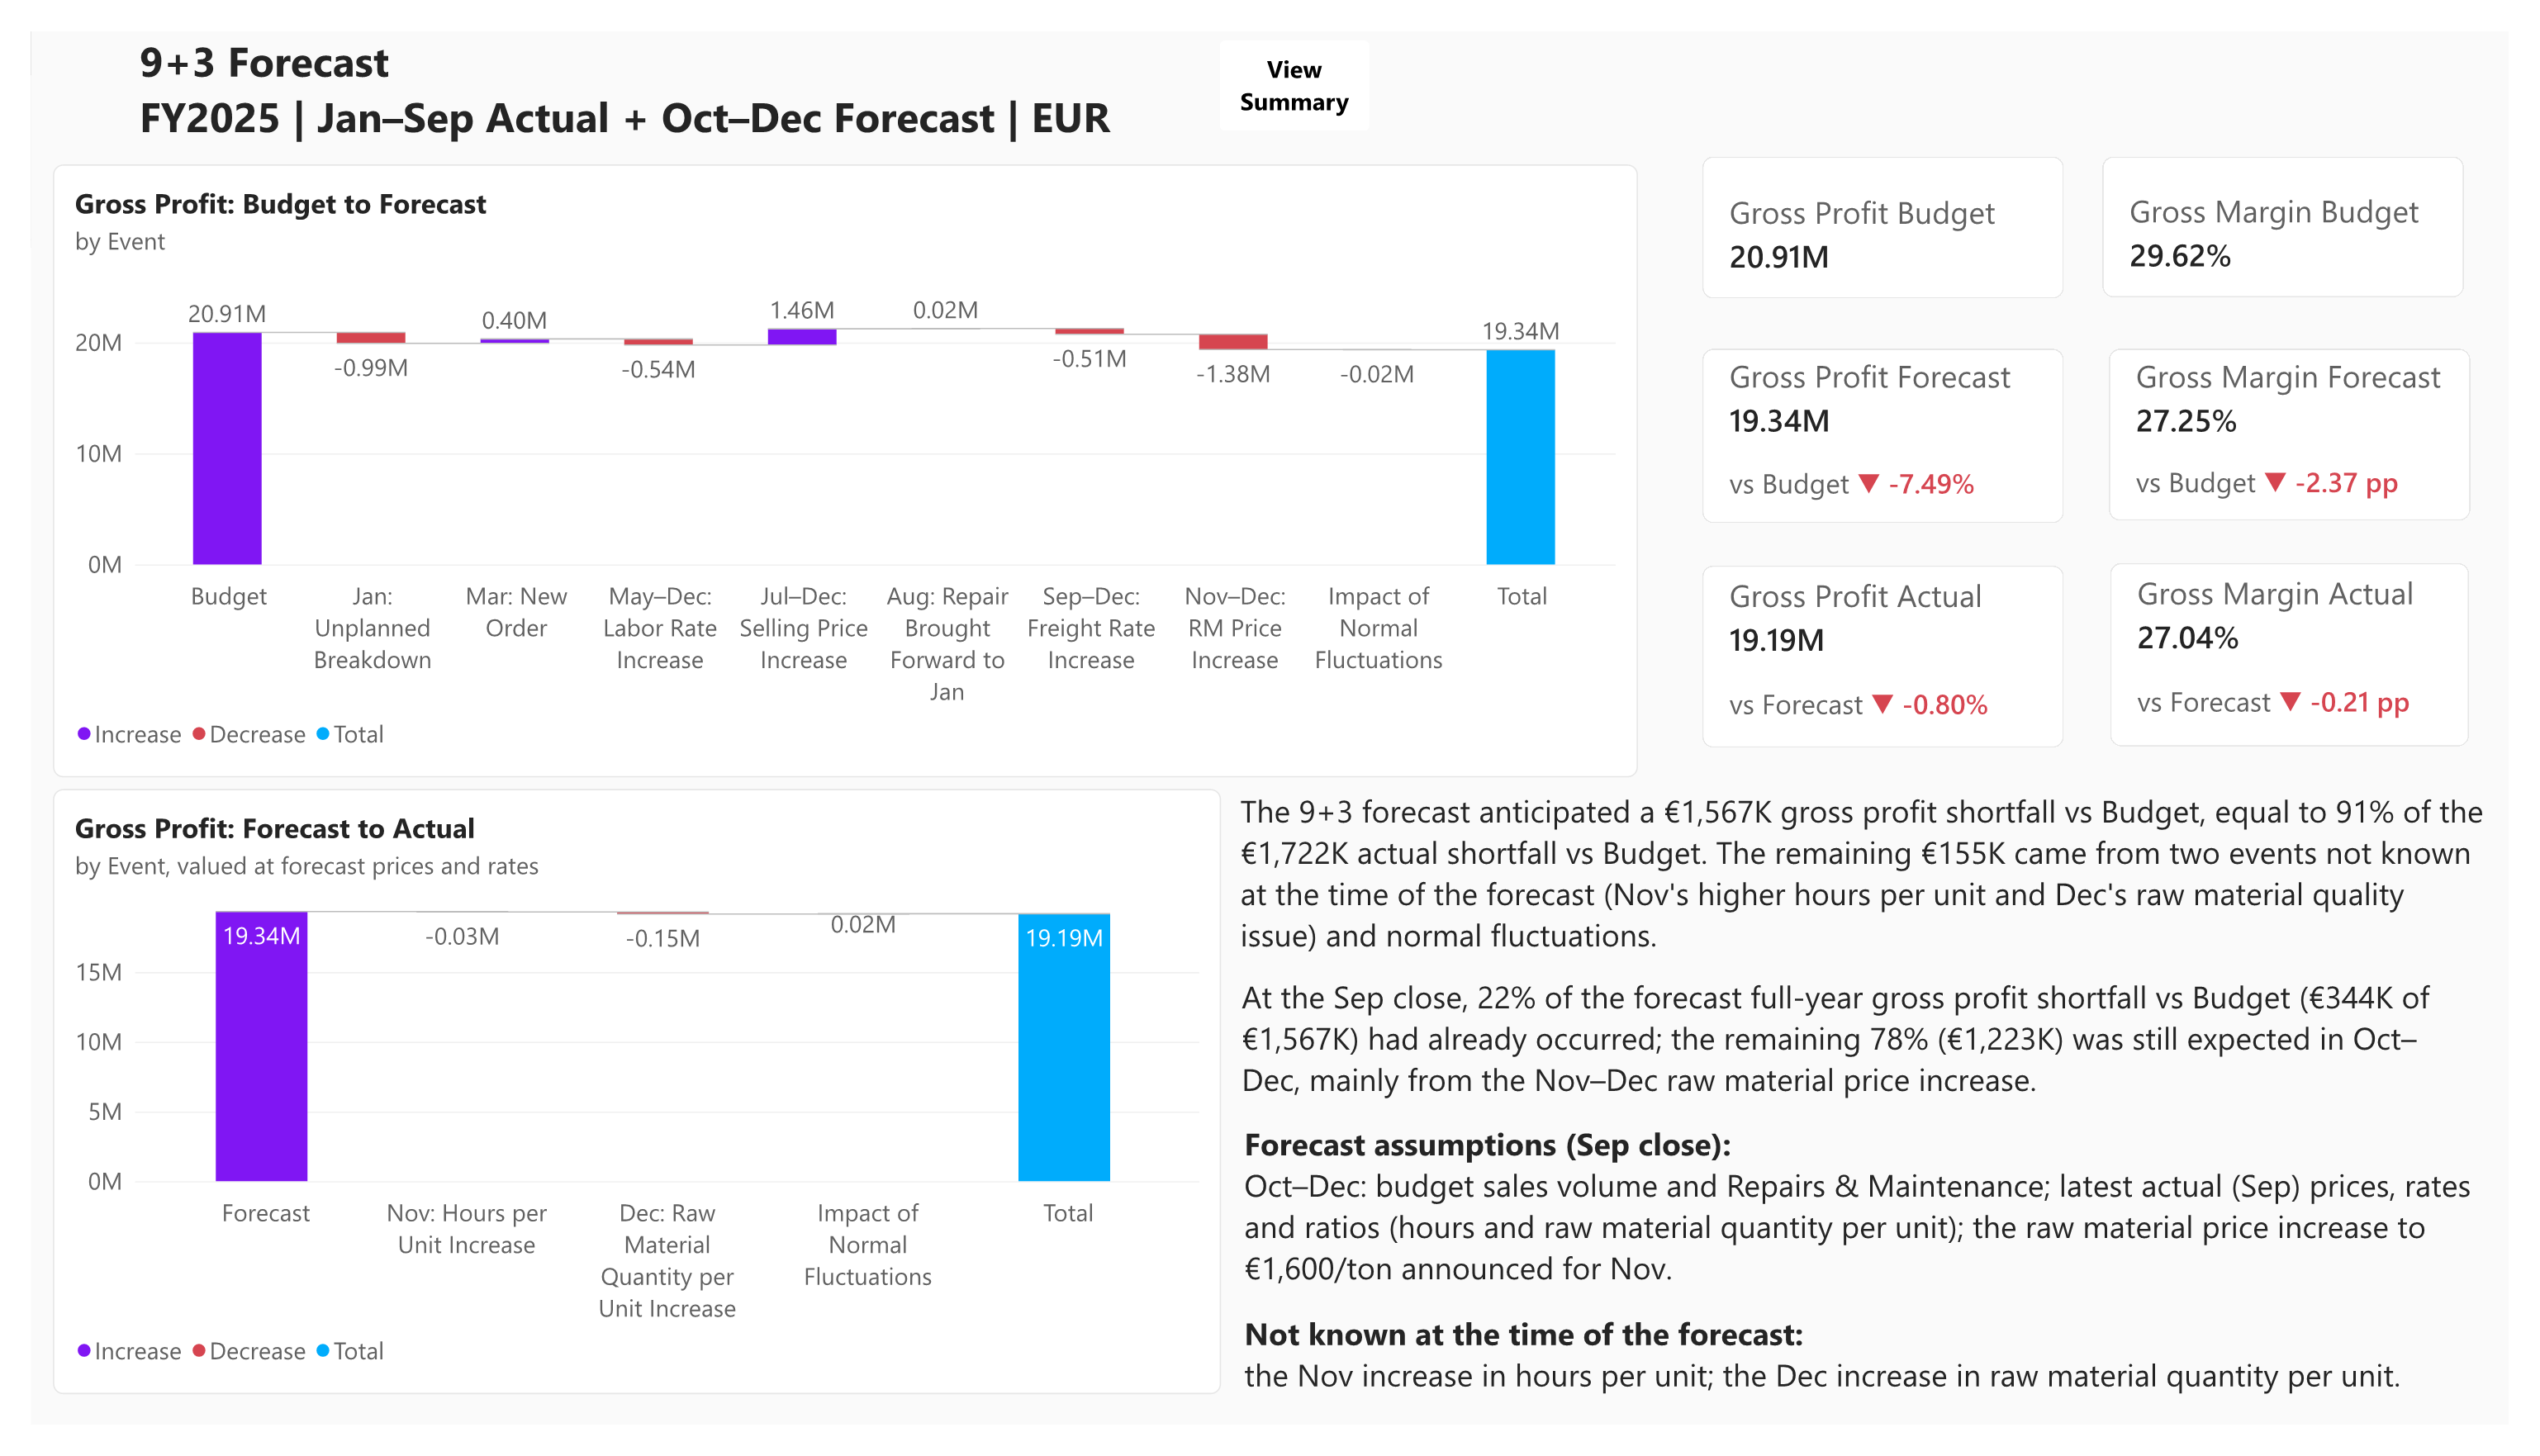

The dashboard page shown, as its layout file describes it:
{"tool":"powerbi","page":{"name":"9+3 Forecast","canvas":[1920,1080],"ordinal":2},"visuals":[{"type":"waterfallChart","title":"Gross Profit: Budget to Forecast","fields":{"Category":["Event Brdige Budget vs Forecast.Category"],"Y":["Event Brdige Budget vs Forecast.GP Event Bridge Value Budget vs Forecast"]},"box":[16.6,102.6,1228,475.2],"z":0},{"type":"waterfallChart","title":"Gross Profit: Forecast to Actual","fields":{"Category":["Event Bridge - Forecast vs Actual.Category"],"Y":["Event Bridge - Forecast vs Actual.GP Event Bridge Value Forecast vs Actual"]},"box":[16.6,586.9,905.2,469.2],"z":1000},{"type":"cardVisual","fields":{"Data":["_Measures.Gross Profit Actual"]},"box":[1295.3,394.1,279.9,181.2],"z":2000},{"type":"cardVisual","fields":{"Data":["_Measures.Gross Margin Forecast"]},"box":[1609.6,226.1,279.9,173.1],"z":3000},{"type":"cardVisual","fields":{"Data":["_Measures.Gross Margin Actual"]},"box":[1611.3,392.4,277.7,181.2],"z":4000},{"type":"cardVisual","fields":{"Data":["_Measures.Gross Profit Forecast"]},"box":[1295.3,226.1,279.9,174.4],"z":5000},{"type":"cardVisual","fields":{"Data":["_Measures.Gross Margin Budget"]},"box":[1605.1,77.1,279.9,148.7],"z":6000},{"type":"cardVisual","fields":{"Data":["_Measures.Gross Profit Budget"]},"box":[1295.5,77.1,279.9,150.1],"z":7000},{"type":"textbox","box":[939.9,844.8,980.6,235.4],"z":8000},{"type":"cardVisual","fields":{"Data":["_Measures.Forecast Captured Text"]},"box":[921,553,998.7,188.6],"z":9000},{"type":"textbox","box":[84.1,0,791.2,110.7],"z":10000},{"type":"actionButton","box":[921.2,6.7,115.7,70],"z":11000},{"type":"cardVisual","fields":{"Data":["_Measures.Forecast Timing Text"]},"box":[922,682,977.6,173.5],"z":12000}]}

Visuals, with their boxes on the page's 1920x1080 design canvas (x1, y1, x2, y2). These are canvas units, not pixel positions in the 2540x1456 screenshot, which may show the page scaled, cropped or inside an application window:
"Gross Profit: Budget to Forecast" waterfallChart: 17/103/1245/578
"Gross Profit: Forecast to Actual" waterfallChart: 17/587/922/1056
cardVisual - _Measures.Gross Profit Actual: 1295/394/1575/575
cardVisual - _Measures.Gross Margin Forecast: 1610/226/1890/399
cardVisual - _Measures.Gross Margin Actual: 1611/392/1889/574
cardVisual - _Measures.Gross Profit Forecast: 1295/226/1575/400
cardVisual - _Measures.Gross Margin Budget: 1605/77/1885/226
cardVisual - _Measures.Gross Profit Budget: 1296/77/1575/227
textbox: 940/845/1920/1080
cardVisual - _Measures.Forecast Captured Text: 921/553/1920/742
textbox: 84/0/875/111
actionButton: 921/7/1037/77
cardVisual - _Measures.Forecast Timing Text: 922/682/1900/856
